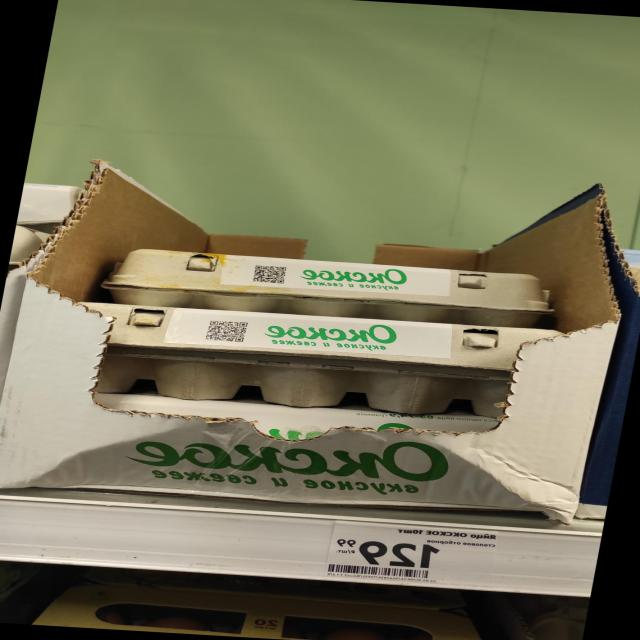organic waste: (56, 302, 561, 419), (97, 247, 554, 330)
